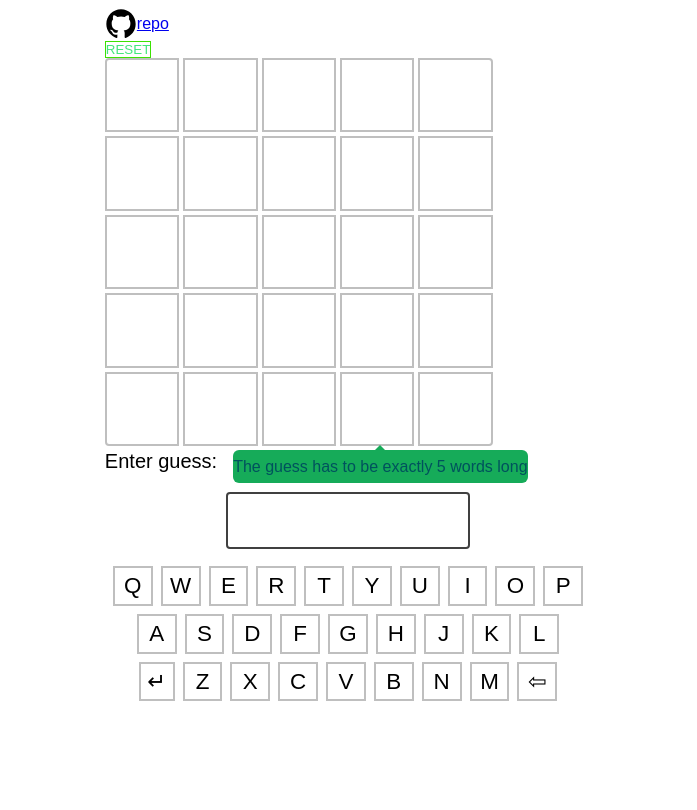
App › should display the winning Banner when the right guess is entered
This screenshot has width=697, height=810.
Type "TESTS" into the field at (348, 520), box left=226, top=492, right=470, bottom=549
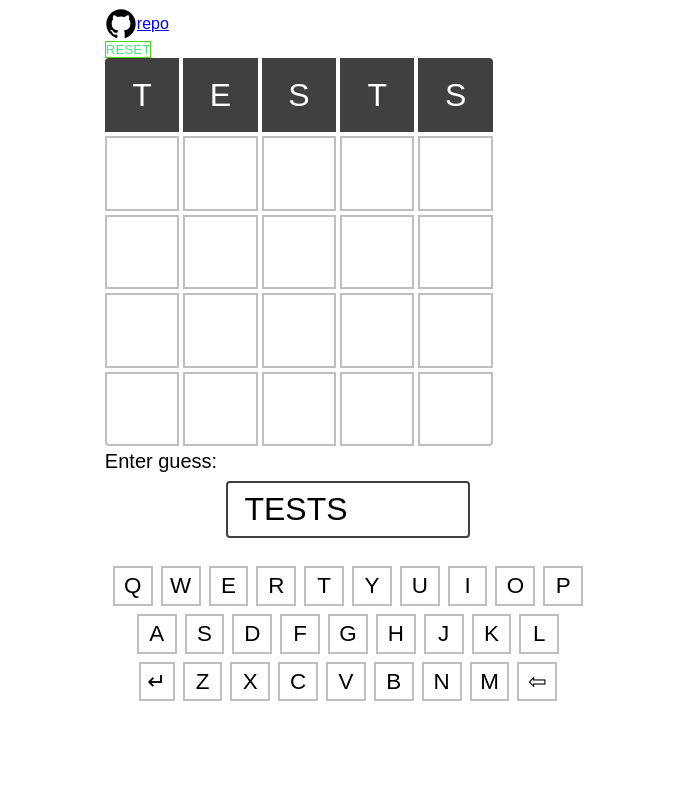
Submit the form "Enter guess:", box left=105, top=450, right=470, bottom=538
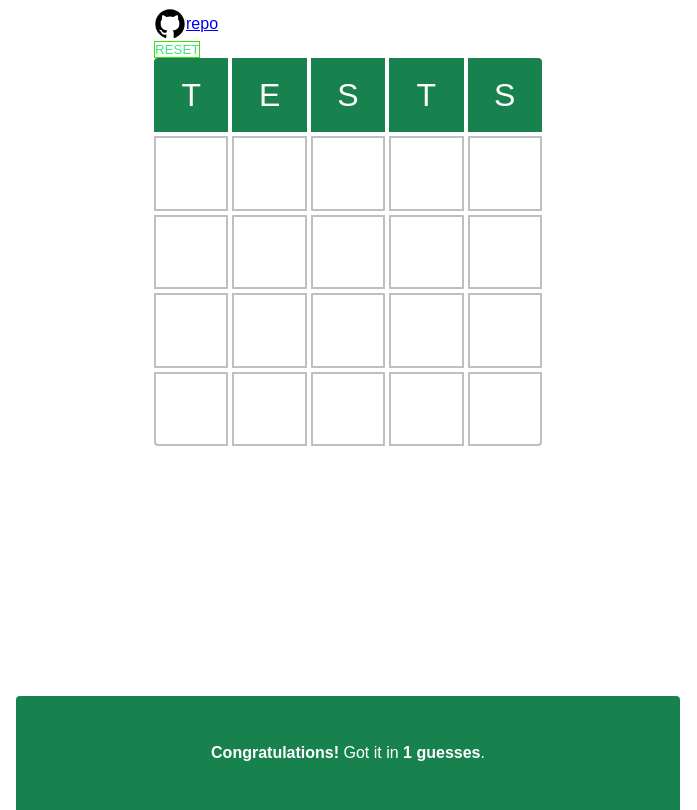
Now the text "Congratulations!" is shown, box left=211, top=744, right=339, bottom=761
